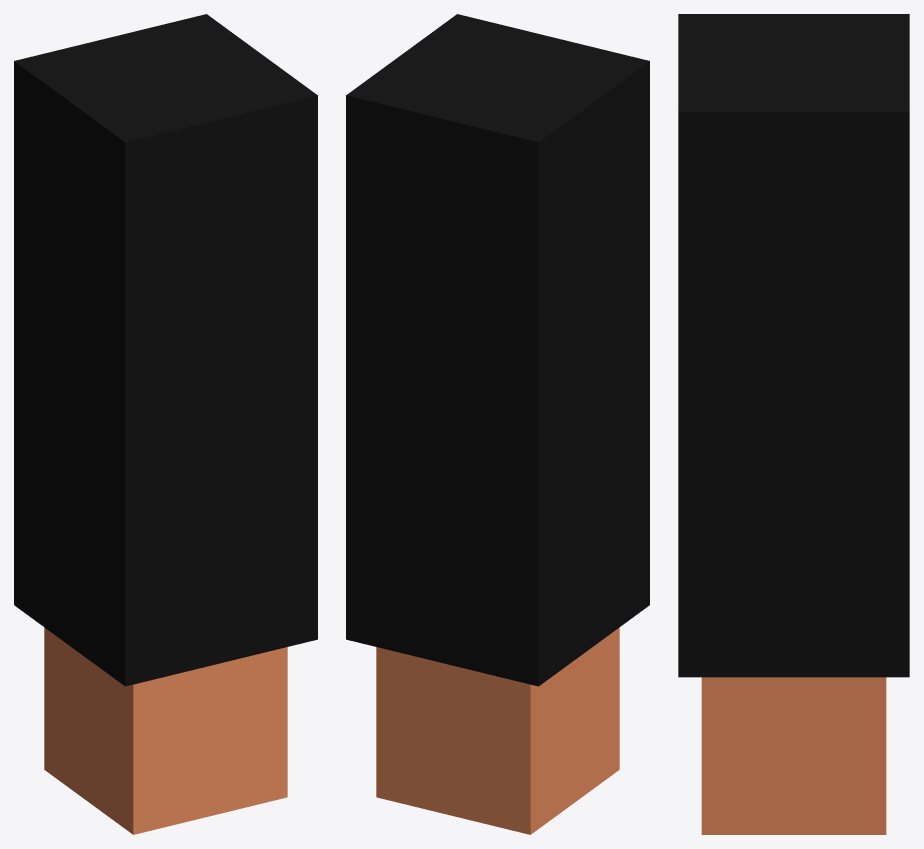
File: brazo derechoobj.obj
The picture shows the model from 3 angles, left to right: view 1: azimuth 30°, elevation 25°; view 2: azimuth 150°, elevation 25°; view 3: azimuth 270°, elevation 25°; orthographic projection. The views are drawn at different scales.
Size of the model in its own units: 1 by 3.5 by 1.
Materials: 1 (1 with a texture image).
